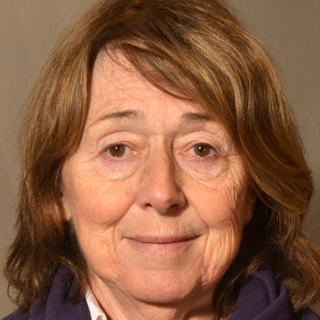eye: (176, 140, 227, 161), (96, 141, 141, 164)
